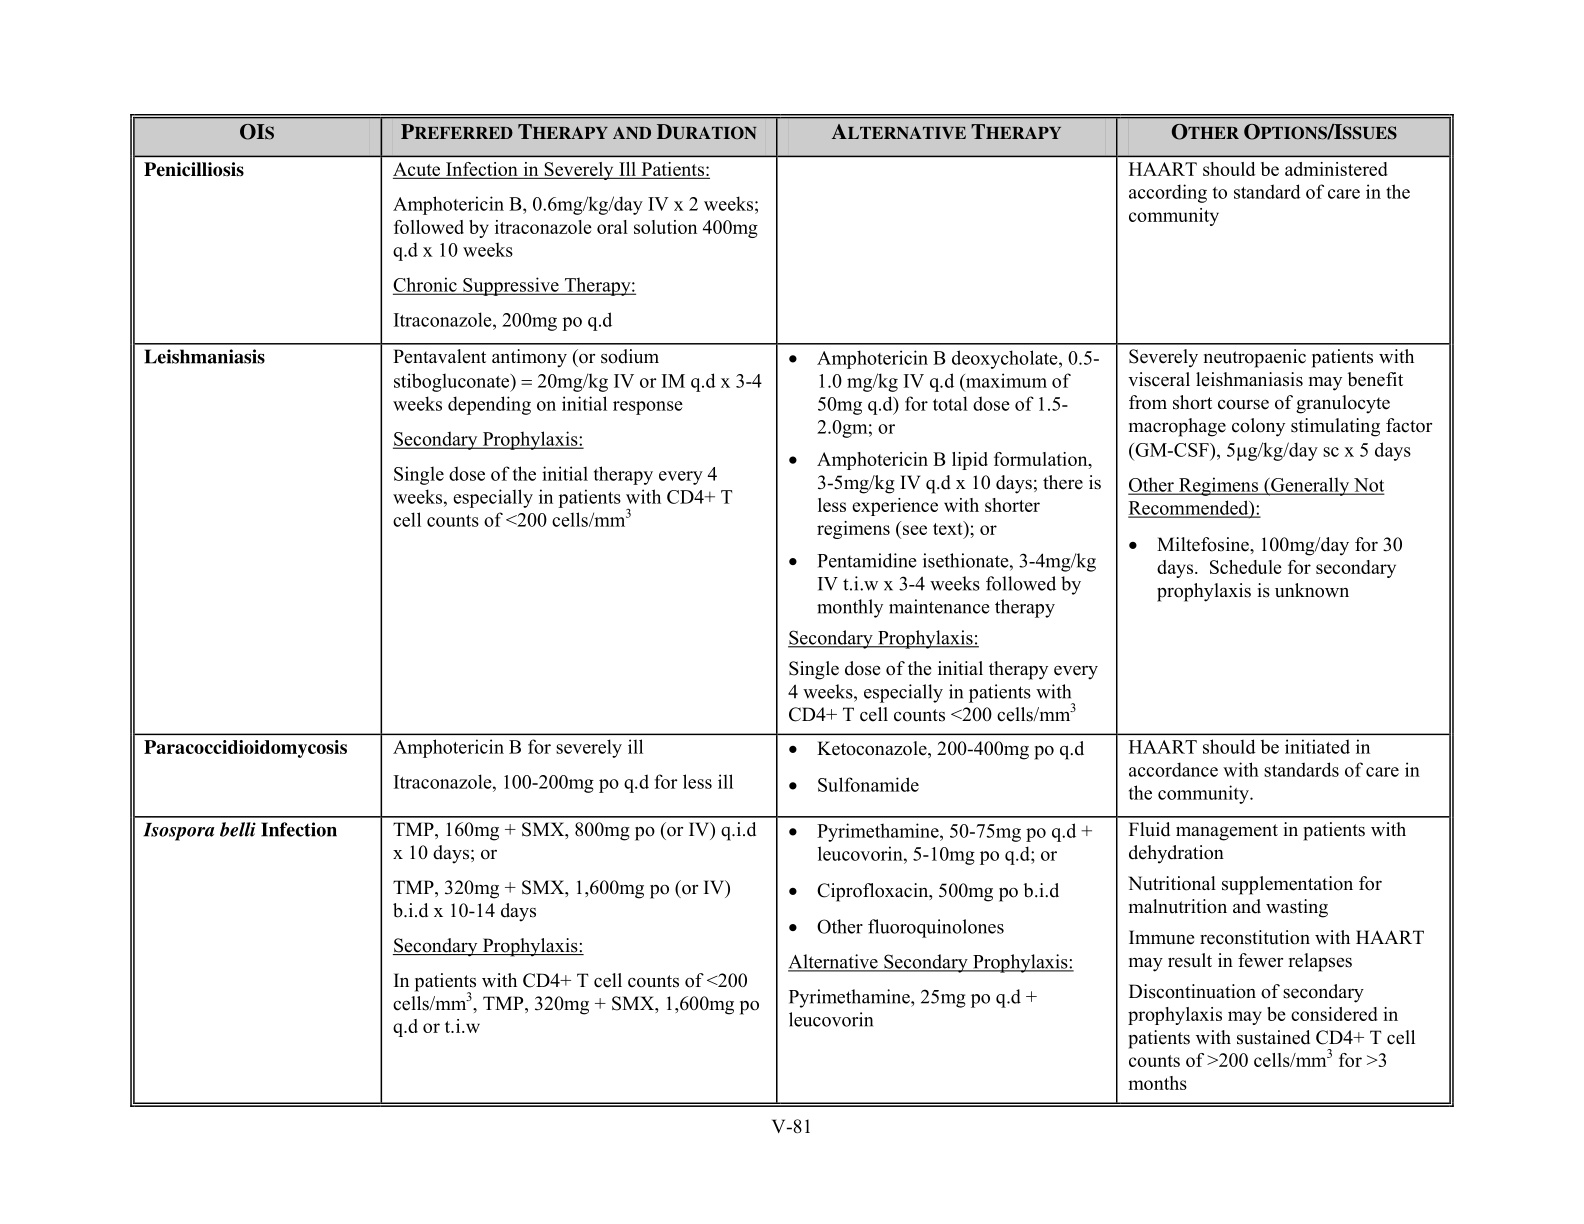full_lined: (130, 113, 1454, 1107)
